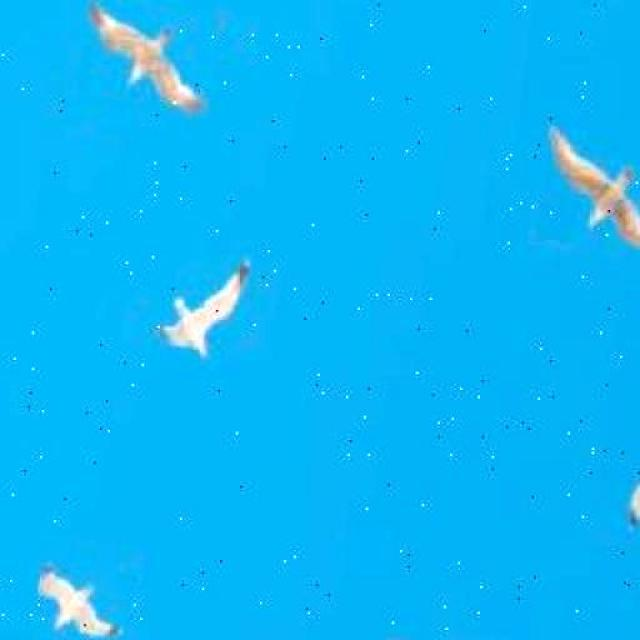airplane: (76, 0, 220, 121), (535, 124, 640, 254), (152, 251, 251, 371), (30, 560, 132, 640)
